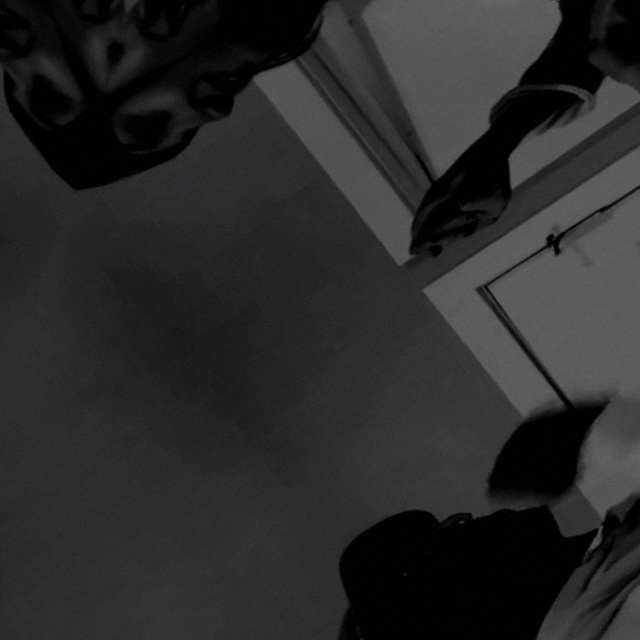Rock: (367, 112, 554, 298), (457, 369, 627, 536)
